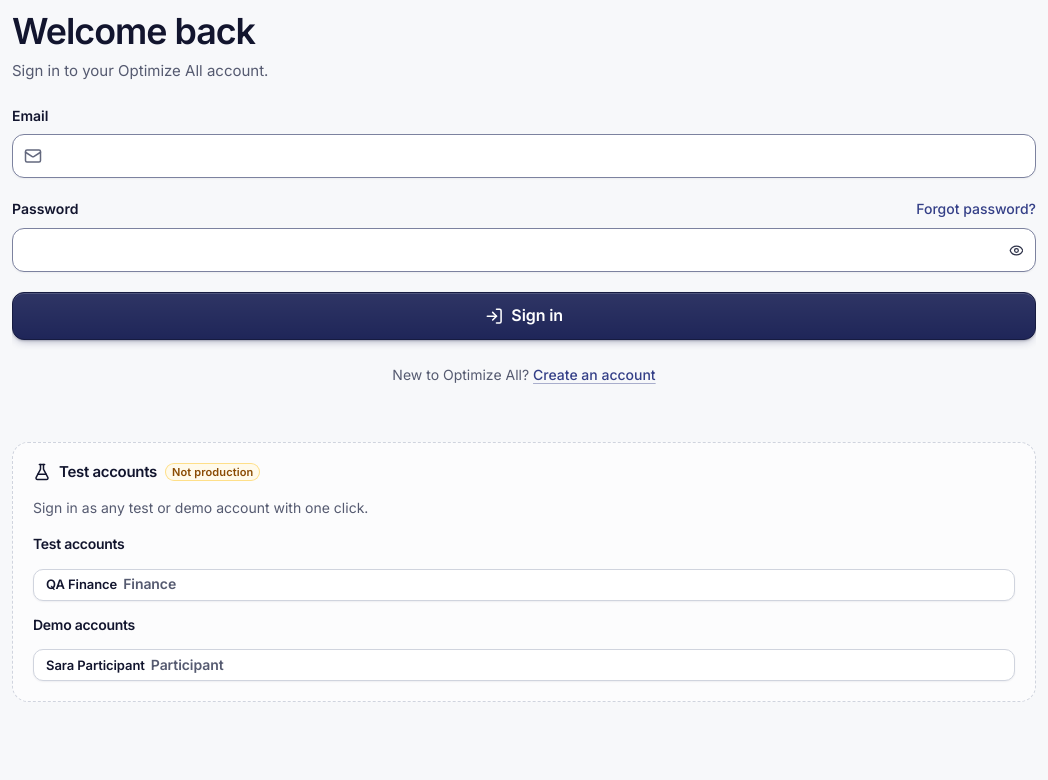
Test: Login page — test accounts (non-production) › lists test and demo accounts and signs in with one click
The image size is (1048, 780).
Expected: the heading "Test accounts" is shown, x1=33 y1=535 x2=124 y2=552
Expected: the heading "Demo accounts" is shown, x1=33 y1=616 x2=135 y2=633
Click the button with aria-label "Sign in as QA Finance (Finance)". click: (82, 584)
box: x1=33 y1=569 x2=1015 y2=601
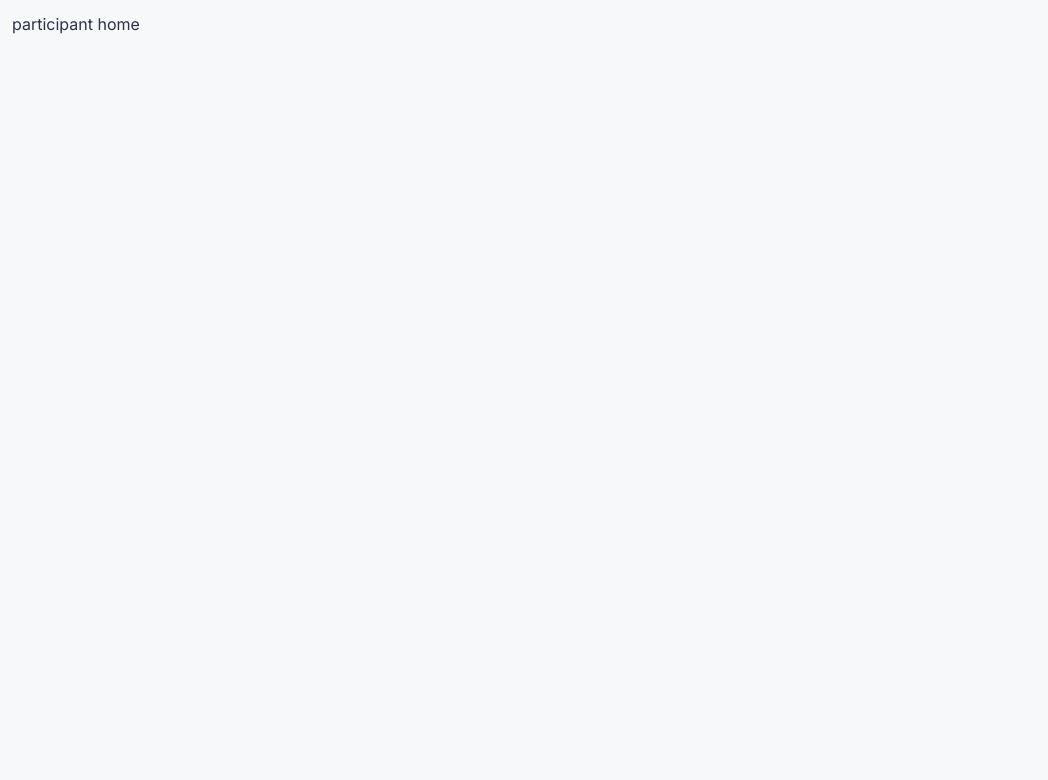
Result: the text "participant home" is shown at x1=12 y1=14 x2=140 y2=34
